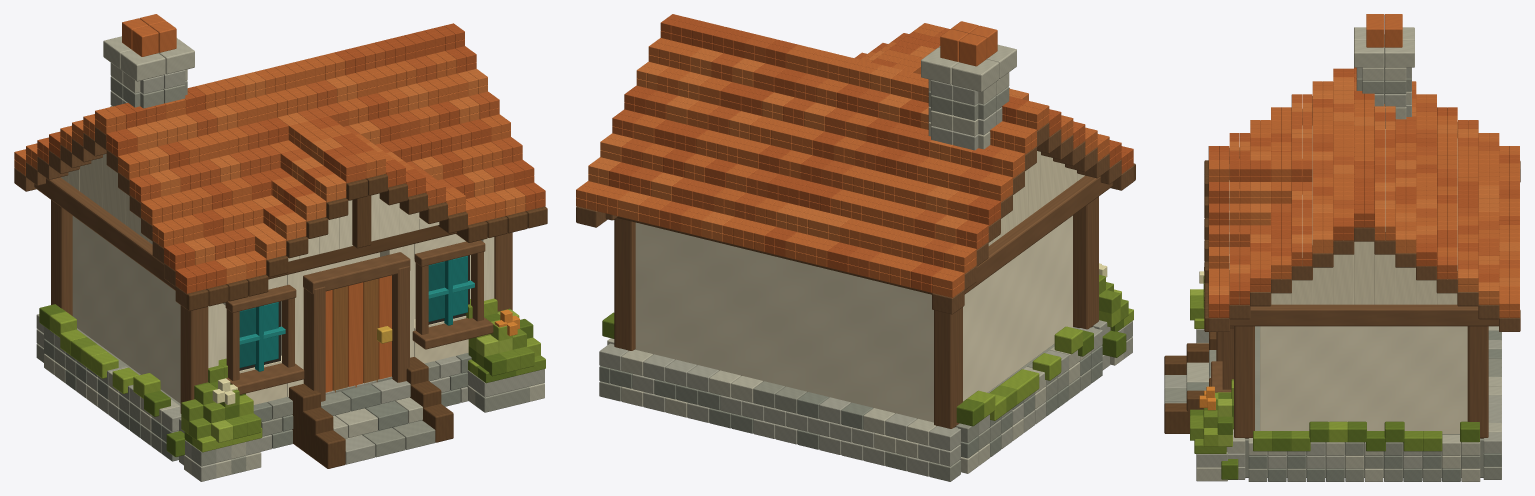
File: SM_Blender_Cottage.fbx
3 views of the same model, side by side, from view 1: azimuth 30°, elevation 25°; view 2: azimuth 150°, elevation 25°; view 3: azimuth 270°, elevation 25° (orthographic). The views are drawn at different scales.
Visible parts, largest first — view 1: SM_Blender_Cottage; view 2: SM_Blender_Cottage; view 3: SM_Blender_Cottage.
Part boxes in pixels (x1,y1,x2,y2): SM_Blender_Cottage: (14, 14, 547, 481); SM_Blender_Cottage: (576, 14, 1135, 481); SM_Blender_Cottage: (1164, 14, 1520, 481).
Size of the model in its own units: 491 by 463 by 478.
1 material, 1 textured.
